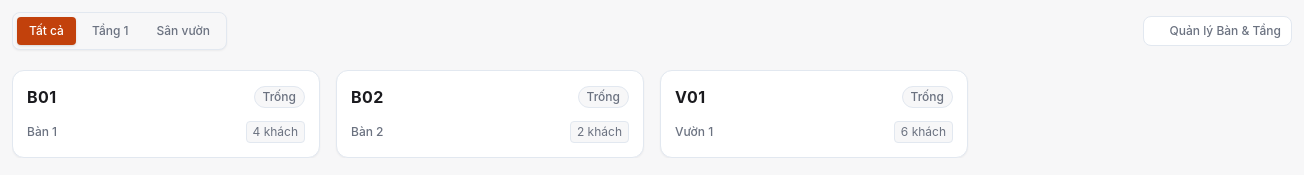
Scenario: FloorPlanView.vue › filters tables when switching area tab
The width and height of the screenshot is (1304, 175).
Expected: the button "B01 Trống Bàn 1 4 khách" is shown, [12,70,320,158]
Expected: the button "B02 Trống Bàn 2 2 khách" is shown, [336,70,644,158]
Click the button "Sân vườn". click: (183, 31)
box: [144,17,222,45]
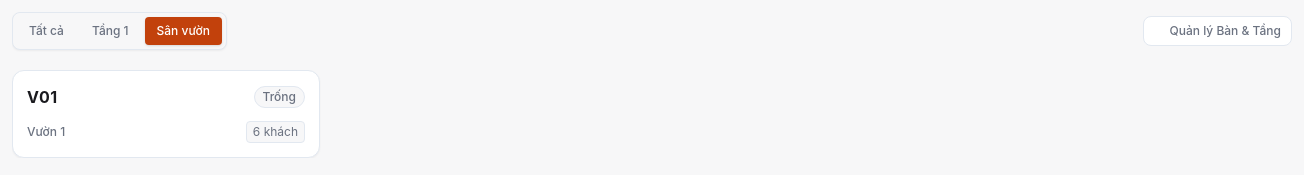
Expected: the button "V01 Trống Vườn 1 6 khách" is shown, [12,70,320,158]
Click the button "Tất cả". click: (46, 31)
box: [17,17,76,45]
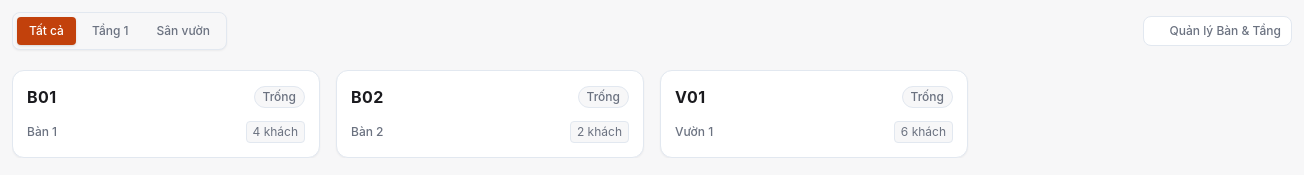
Expected: the button "V01 Trống Vườn 1 6 khách" is shown, [660,70,968,158]
Now the button "B01 Trống Bàn 1 4 khách" is shown, box [12,70,320,158]
Now the button "B02 Trống Bàn 2 2 khách" is shown, box [336,70,644,158]
